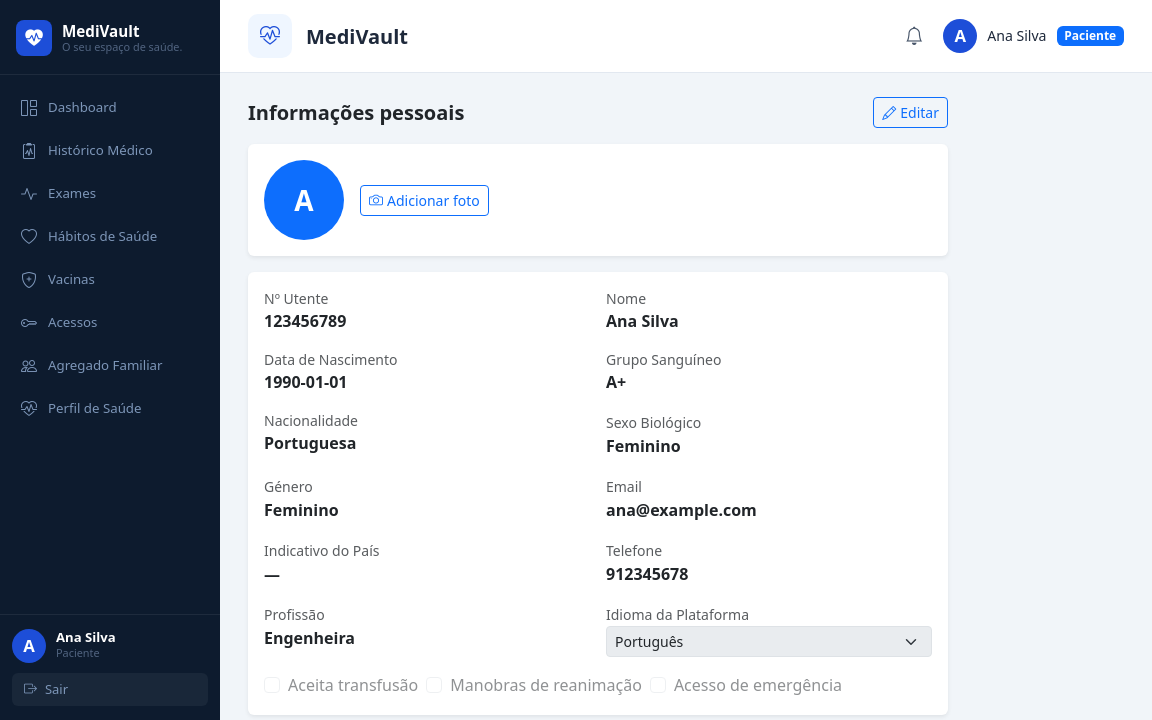
Test case: ProfilePage - critical field confirmation popup › applies the change once the user confirms the popup
The width and height of the screenshot is (1152, 720).
Click the button "Editar" at (911, 112), box [873,97,948,128]
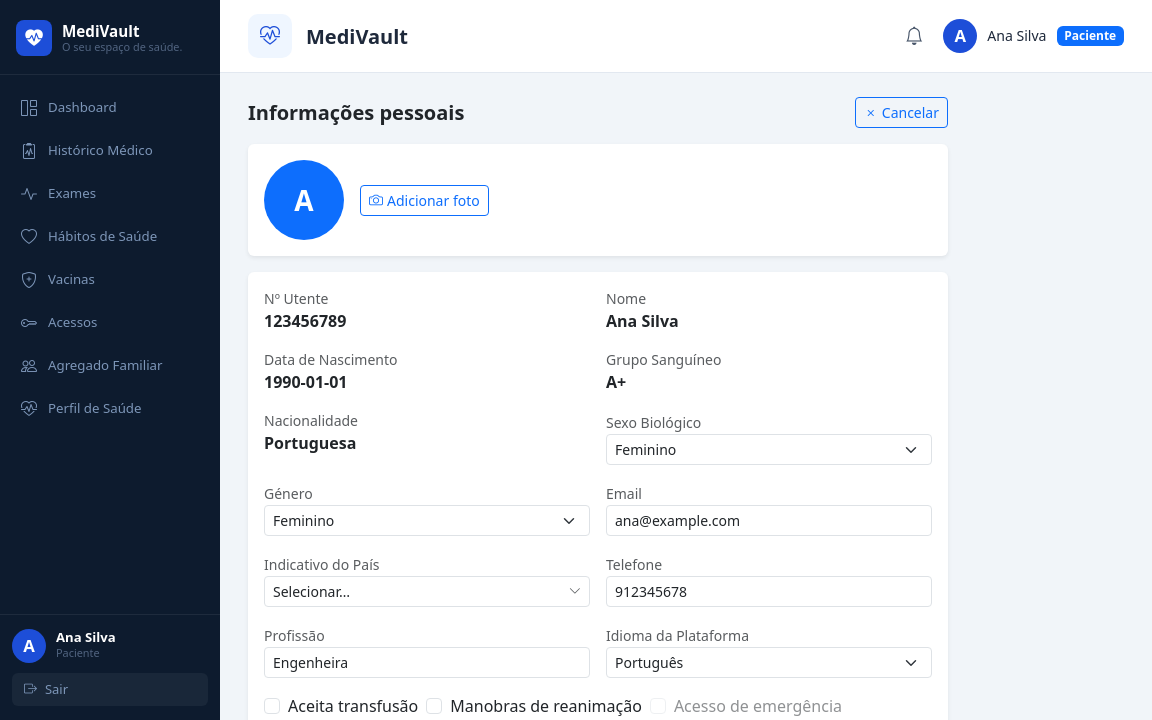
Click the checkbox labelled "Aceita transfusão" at (272, 706), box [264,698,280,714]
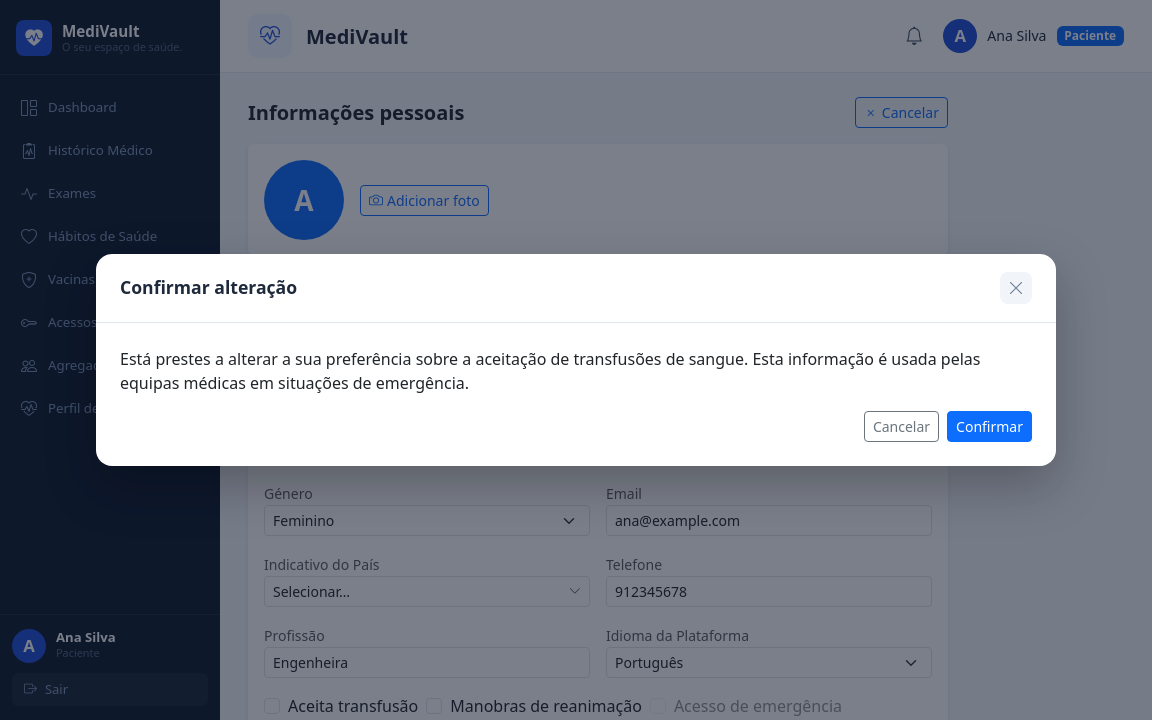
Click the button "Confirmar" at (990, 426), box [947,411,1032,442]
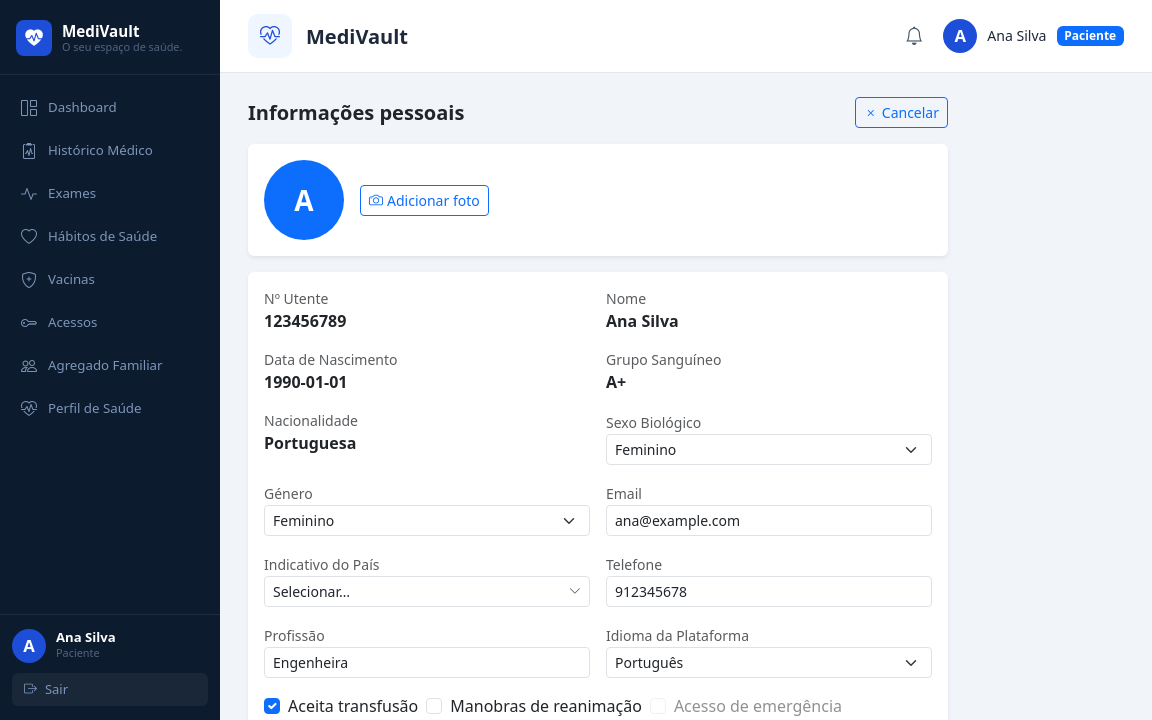
Result: the checkbox labelled "Aceita transfusão" is checked at [264,698,280,714]
Result: the heading "Confirmar alteração" is gone
